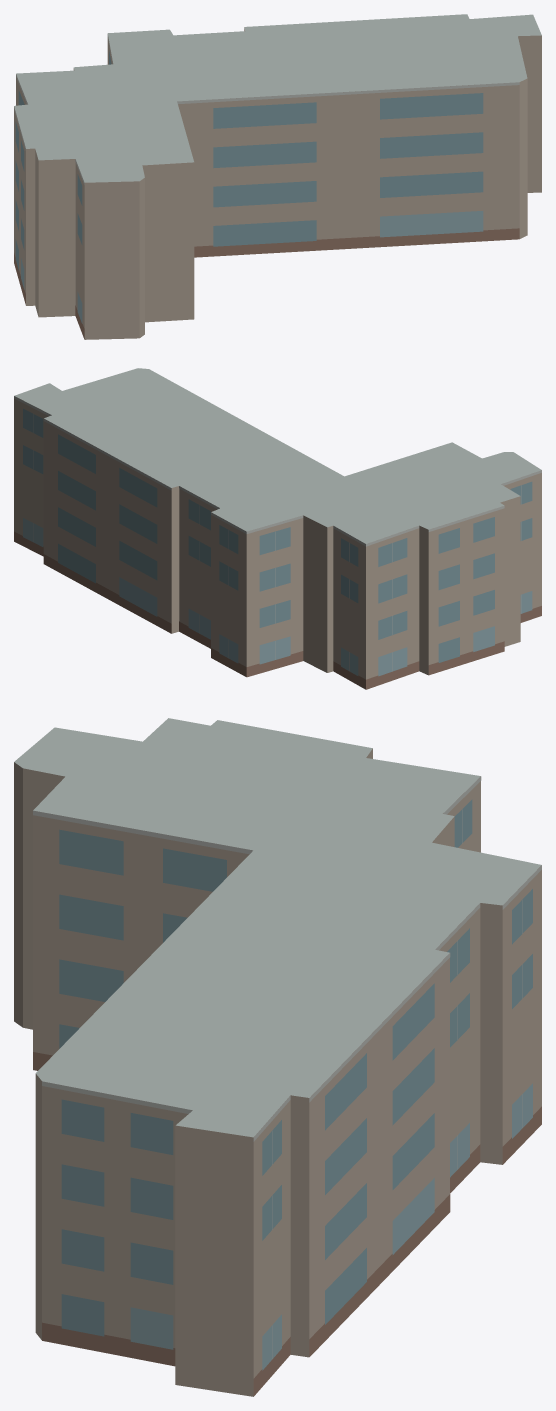
File: survey-upis-32629577.glb
3 renders of one model, top to bottom at view 1: azimuth 30°, elevation 25°; view 2: azimuth 150°, elevation 25°; view 3: azimuth 270°, elevation 25°, orthographic. The views are drawn at different scales.
Visible parts, largest first — view 1: survey-upis-32629577.tmp; view 2: survey-upis-32629577.tmp; view 3: survey-upis-32629577.tmp.
Boxes of the visible parts, x1,y1,x2,y2 form: survey-upis-32629577.tmp: [14, 14, 541, 339]; survey-upis-32629577.tmp: [14, 368, 541, 689]; survey-upis-32629577.tmp: [14, 718, 541, 1396].
Size of the model in its own units: 47.49 by 13.7 by 25.27.
